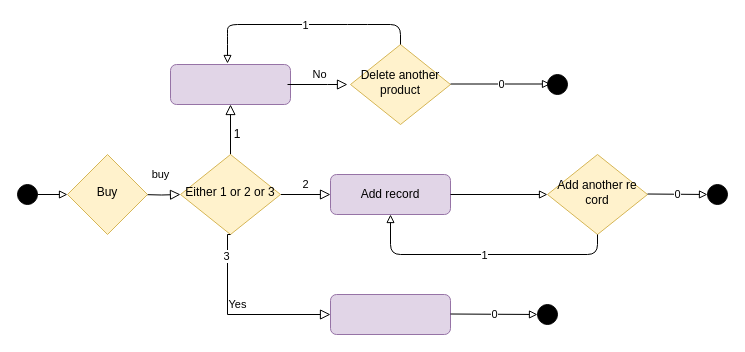
This 745x352 diagram has some shape labels left out. The shapes that lost their labels are listed below. From the top down, each one's centre as x and y in pixels, then its label:
At pixel 230 84: "Delete product".
At pixel 390 314: "Edit Items".
